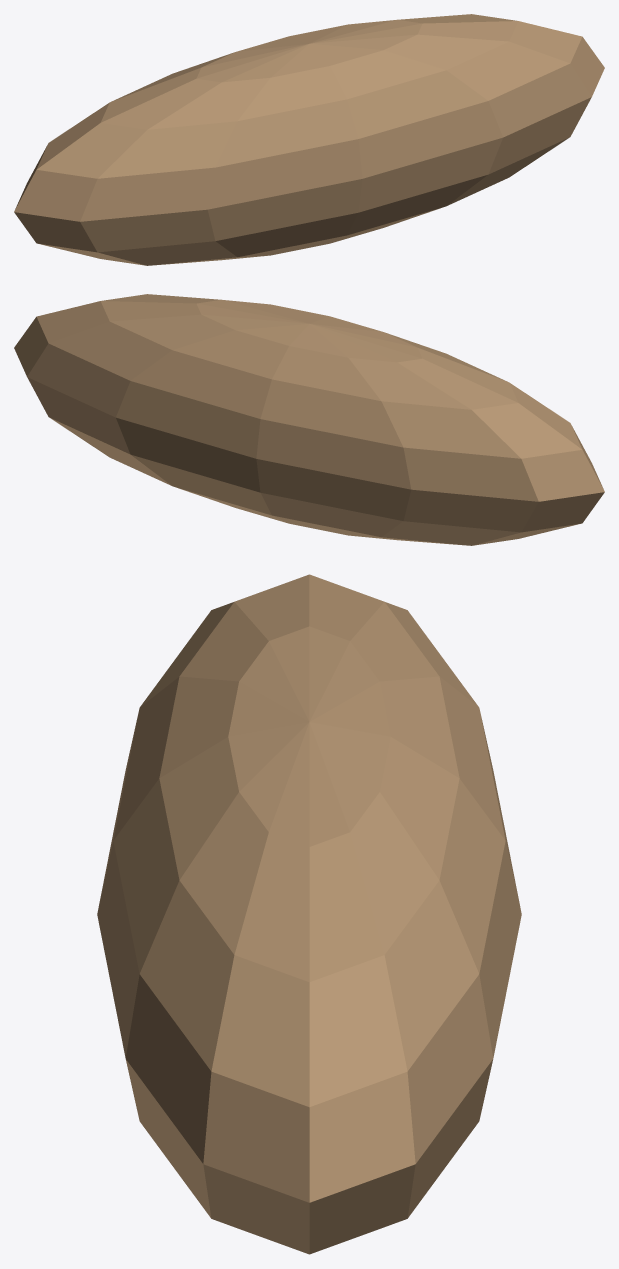
The model's file is beast_arm_L.fbx.
3 views of the same model, one above another, from view 1: azimuth 30°, elevation 25°; view 2: azimuth 150°, elevation 25°; view 3: azimuth 270°, elevation 25° (orthographic). The views are drawn at different scales.
Parts seen in each view (by area): view 1: beast_arm_L_geo; view 2: beast_arm_L_geo; view 3: beast_arm_L_geo.
Boxes of the visible parts, box(x1,y1,x2,y2) form: beast_arm_L_geo: box(14, 14, 604, 265); beast_arm_L_geo: box(14, 294, 604, 545); beast_arm_L_geo: box(97, 574, 521, 1254).
Bounding box in the file's own units: 45 × 14 × 14.
